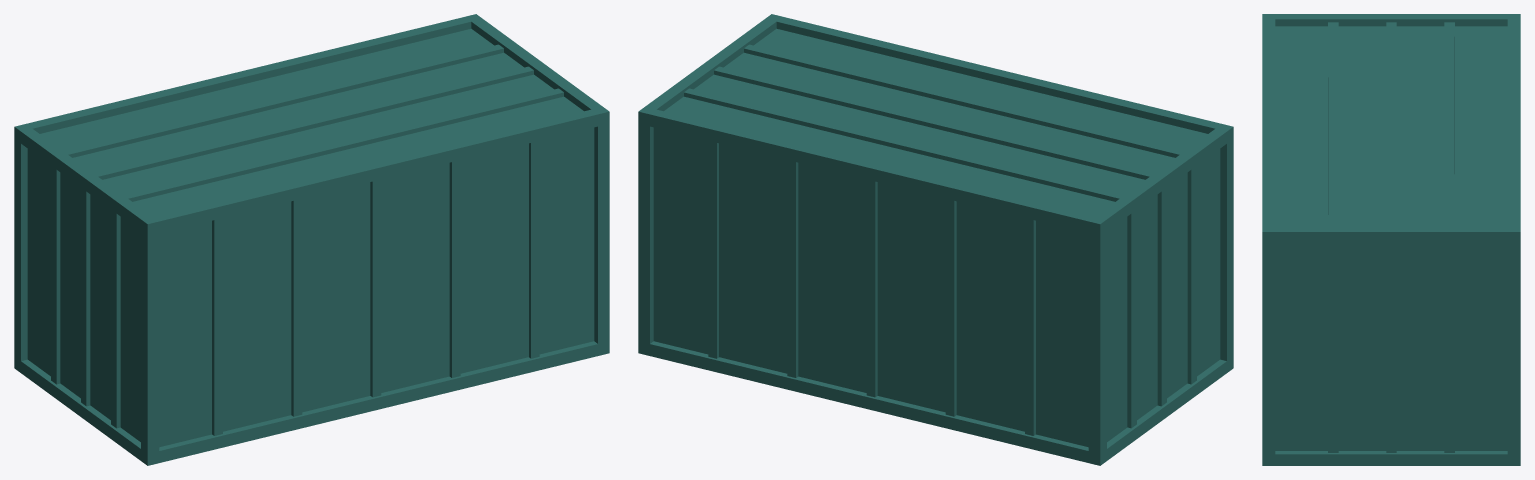
Rendered from Container_1.fbx.
The picture shows the model from 3 angles, left to right: view 1: azimuth 30°, elevation 25°; view 2: azimuth 150°, elevation 25°; view 3: azimuth 270°, elevation 25°; orthographic projection. The views are drawn at different scales.
Parts seen in each view (by area): view 1: Container_1; view 2: Container_1; view 3: Container_1.
Boxes of the visible parts, x1=… form: Container_1: x1=14, y1=14, x2=609, y2=465; Container_1: x1=638, y1=14, x2=1233, y2=465; Container_1: x1=1262, y1=14, x2=1520, y2=465.
Bounding box in the file's own units: 369 × 185 × 185.
